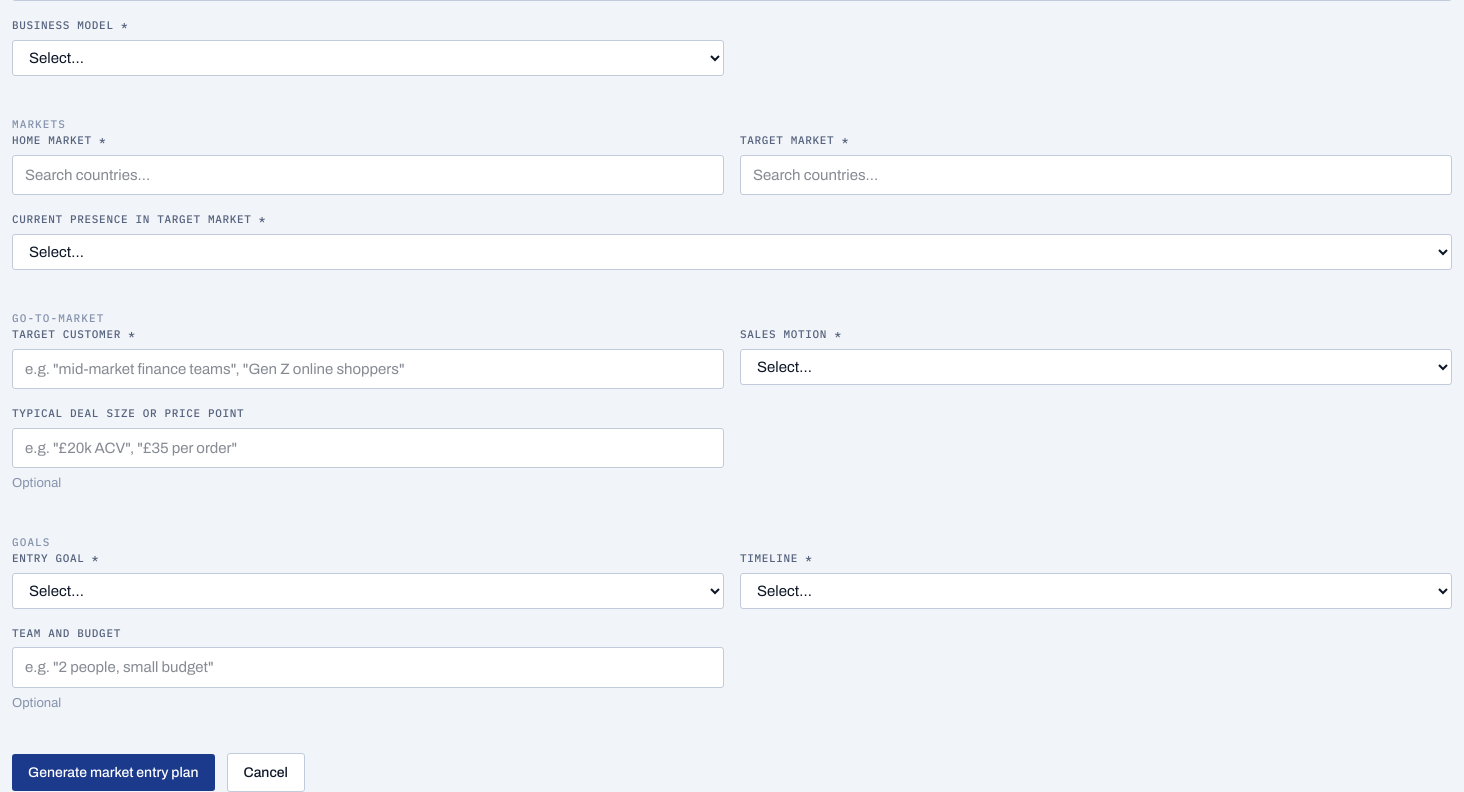
NewLaunchForm › blocks submit and shows inline errors when required fields are empty
The image size is (1464, 792).
(page scrolled)
What coordinates should you click on to do the following:
click the button "Generate market entry plan"
I would click on:
 (113, 772)
Its box is [12,754,214,791].
(page scrolled)
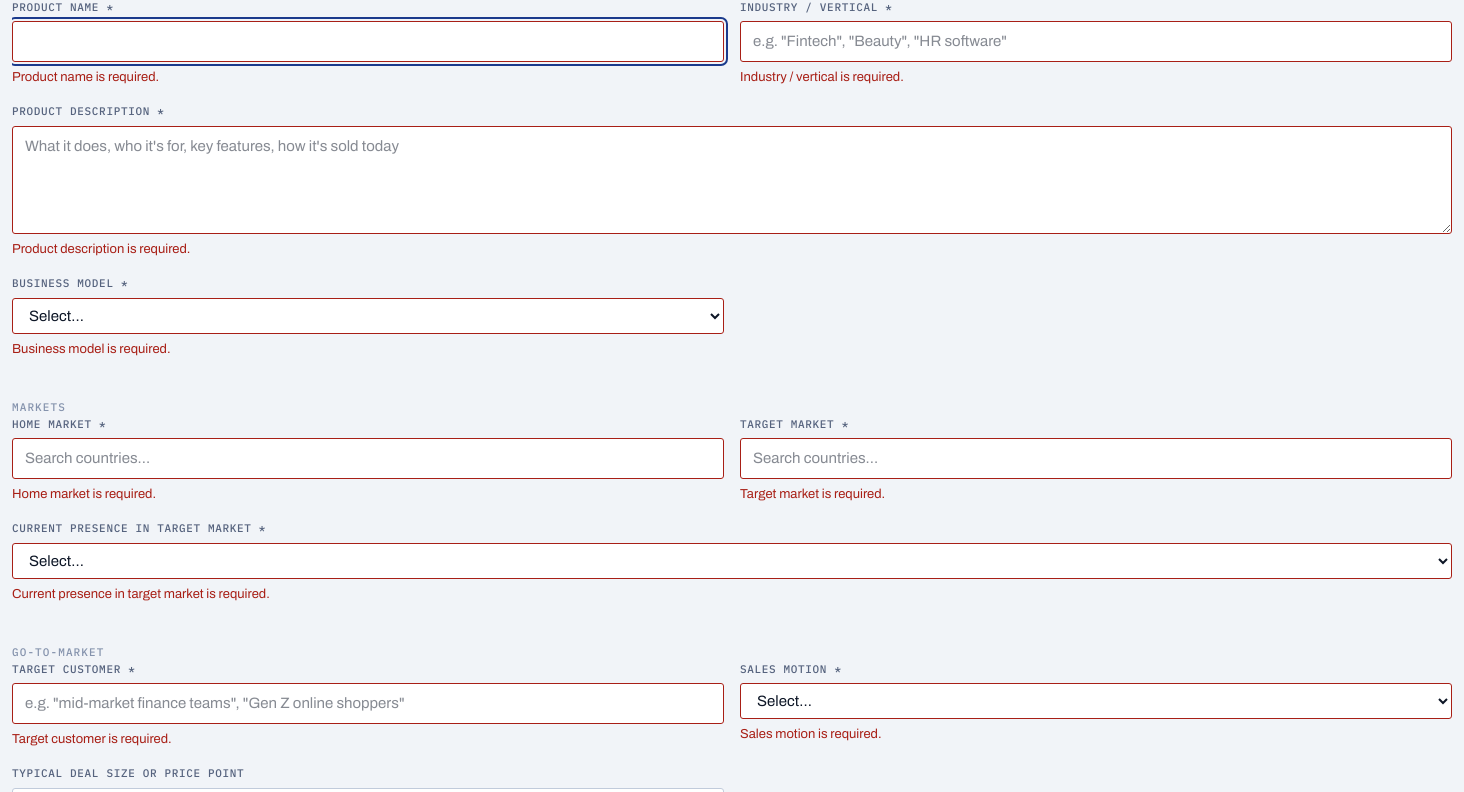
Expected: the text "Product name is required." is shown, [12,70,159,84]
Expected: the text "Home market is required." is shown, [12,486,156,500]
